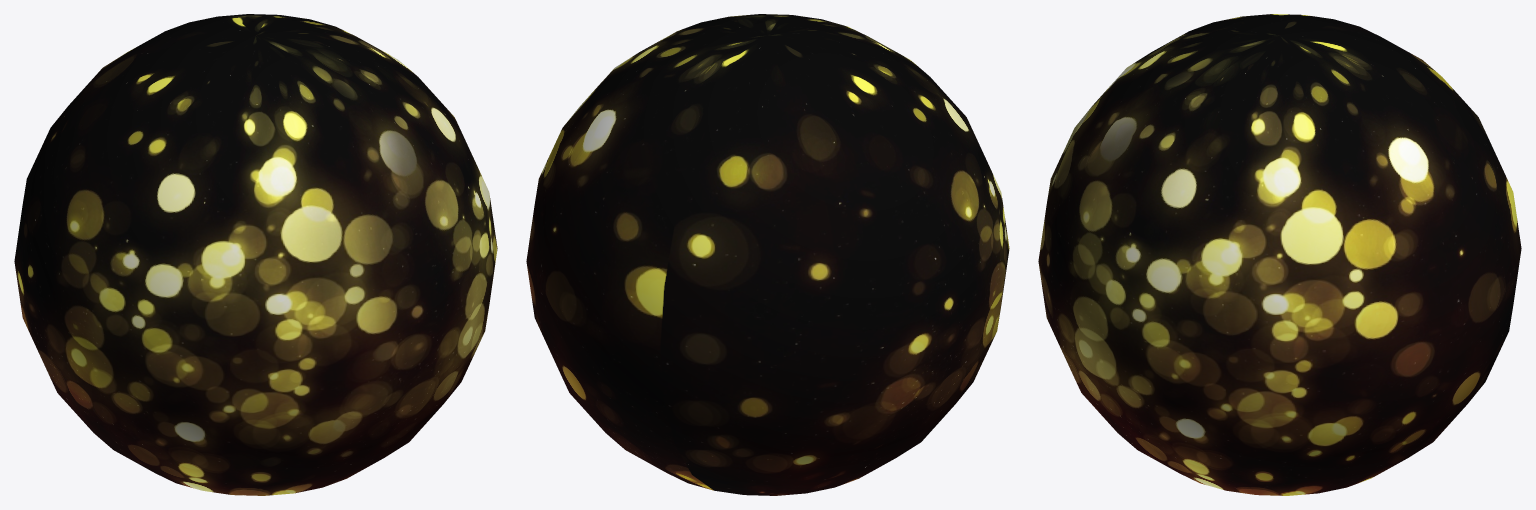
The picture shows the model from 3 angles, left to right: view 1: azimuth 30°, elevation 25°; view 2: azimuth 150°, elevation 25°; view 3: azimuth 270°, elevation 25°; orthographic projection.
Parts seen in each view (by area): view 1: Sphere; view 2: Sphere; view 3: Sphere.
Boxes of the visible parts, left/top/right/bottom form: Sphere: left=14, top=14, right=497, bottom=495; Sphere: left=526, top=14, right=1009, bottom=495; Sphere: left=1038, top=14, right=1521, bottom=495.
Size of the model in its own units: 127 by 128 by 127.
1 material, 1 textured.
